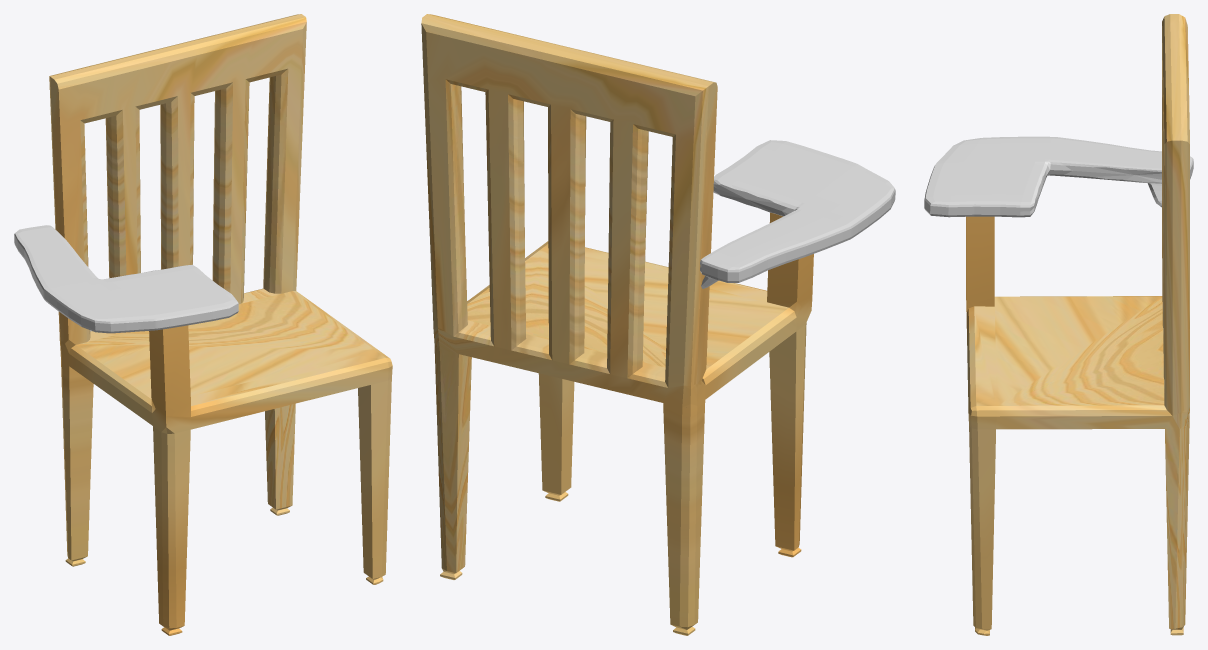
The model's file is School Chair Obstacle.fbx.
3 renders of one model, left to right at view 1: azimuth 30°, elevation 25°; view 2: azimuth 150°, elevation 25°; view 3: azimuth 270°, elevation 25°, orthographic. The views are drawn at different scales.
Parts seen in each view (by area): view 1: School Chair.001; view 2: School Chair.001; view 3: School Chair.001.
Part boxes in pixels (box(x1,y1,x2,y2)): School Chair.001: box(14, 14, 392, 635); School Chair.001: box(421, 14, 895, 635); School Chair.001: box(924, 14, 1193, 635).
Size of the model in its own units: 132 by 194 by 94.12.
